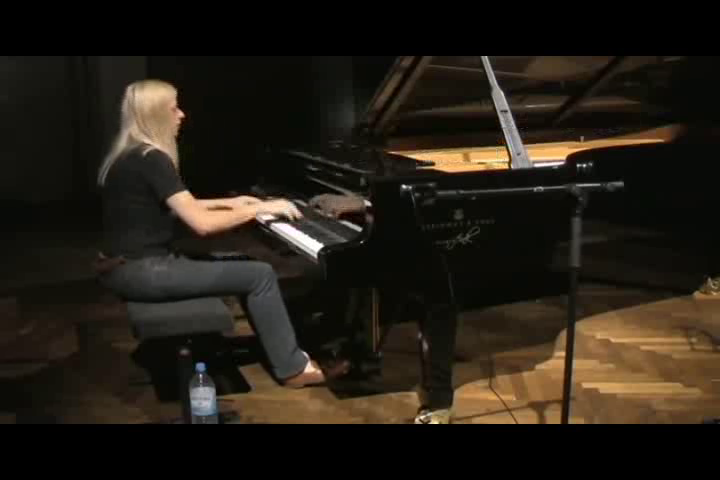keyboard: (217, 184, 362, 261)
